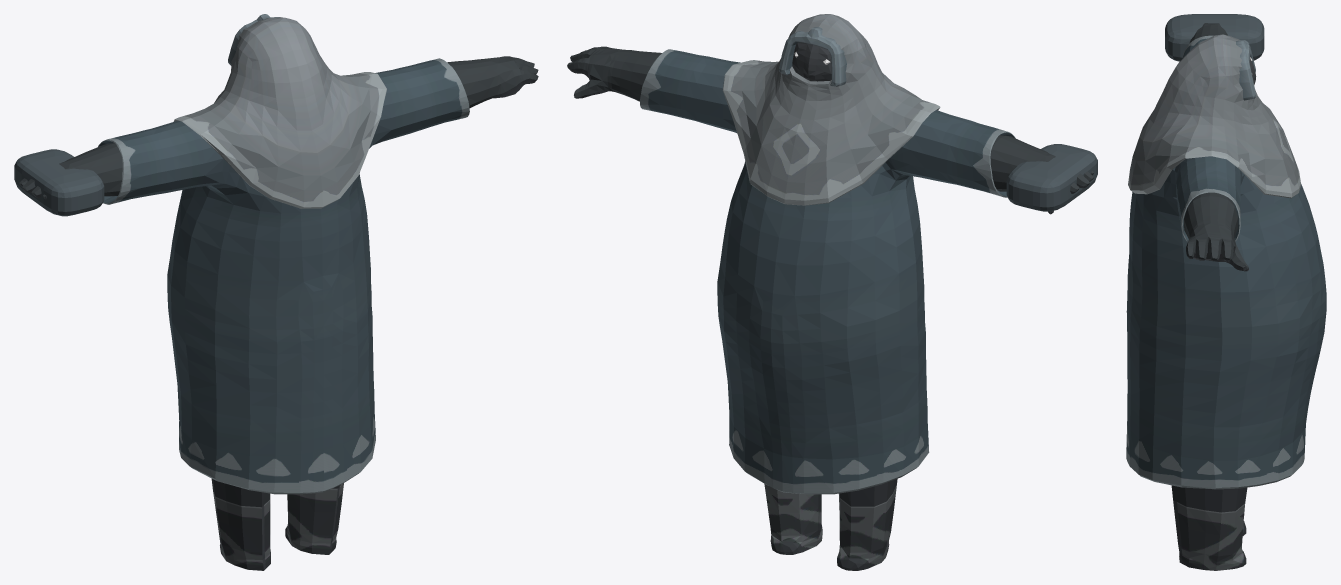
The model's file is CharSkyNPC_Body_FatLaborWave.glb.
3 renders of one model, left to right at view 1: azimuth 30°, elevation 25°; view 2: azimuth 150°, elevation 25°; view 3: azimuth 270°, elevation 25°, orthographic. The views are drawn at different scales.
Visible parts, largest first — view 1: CharSkyNPC_Body_FatLaborWave; view 2: CharSkyNPC_Body_FatLaborWave; view 3: CharSkyNPC_Body_FatLaborWave.
Part boxes in pixels (x1,y1,x2,y2): CharSkyNPC_Body_FatLaborWave: (14, 14, 538, 570); CharSkyNPC_Body_FatLaborWave: (567, 14, 1097, 570); CharSkyNPC_Body_FatLaborWave: (1126, 14, 1326, 570).
Bounding box in the file's own units: 14.05 × 13.88 × 4.95.
1 material, 1 textured.
